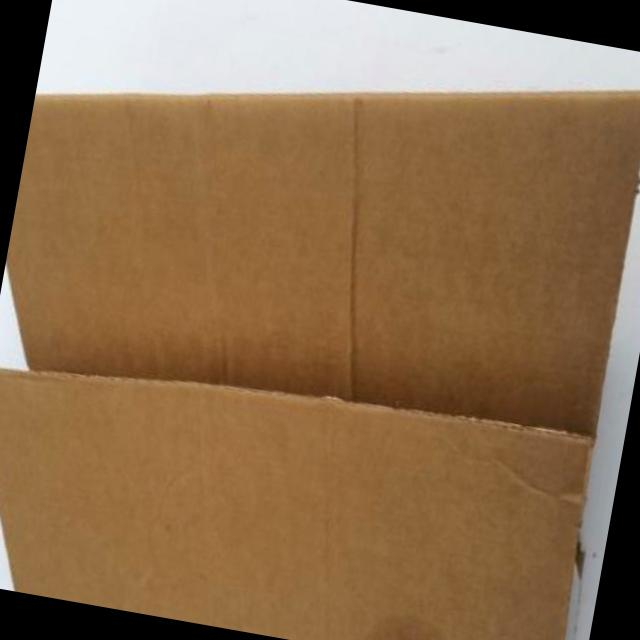cardboard paper: (0, 90, 640, 640)
